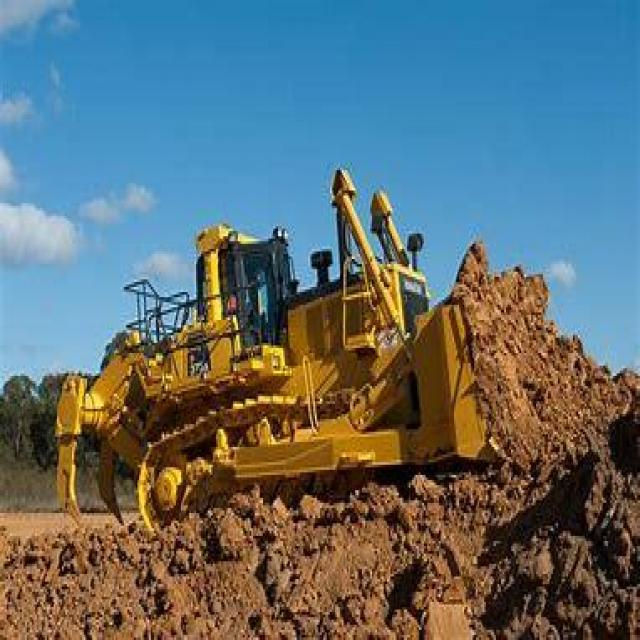Bulldozer: (56, 140, 514, 544)
